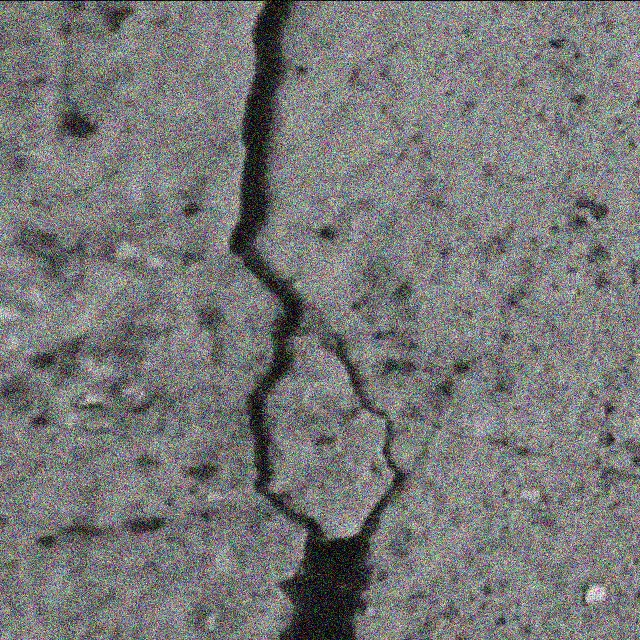SurfaceCrack: (203, 0, 438, 639)
